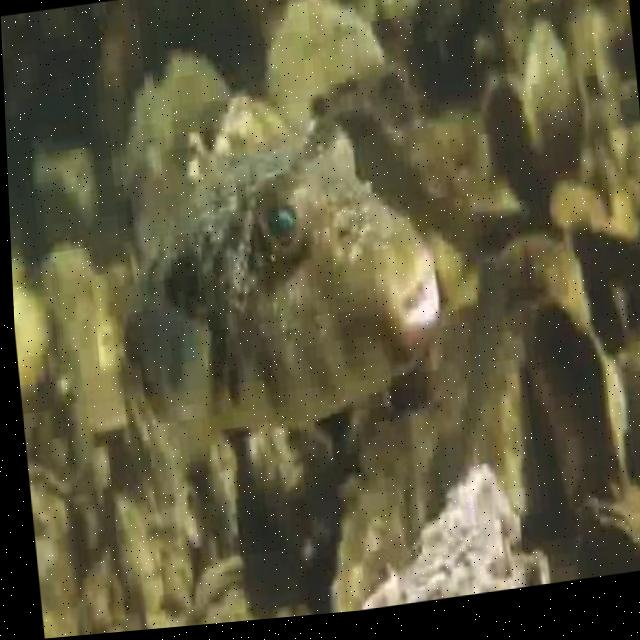Oyster-Closed: (526, 15, 583, 173)
Oyster-Indeterminate: (485, 230, 594, 468), (363, 464, 540, 607), (39, 241, 128, 434), (275, 0, 392, 121), (187, 540, 321, 626), (154, 51, 230, 154), (29, 461, 90, 584), (11, 256, 64, 391), (576, 488, 640, 580), (222, 89, 285, 148), (128, 80, 159, 170)
Oyster-Open: (191, 122, 232, 174)
